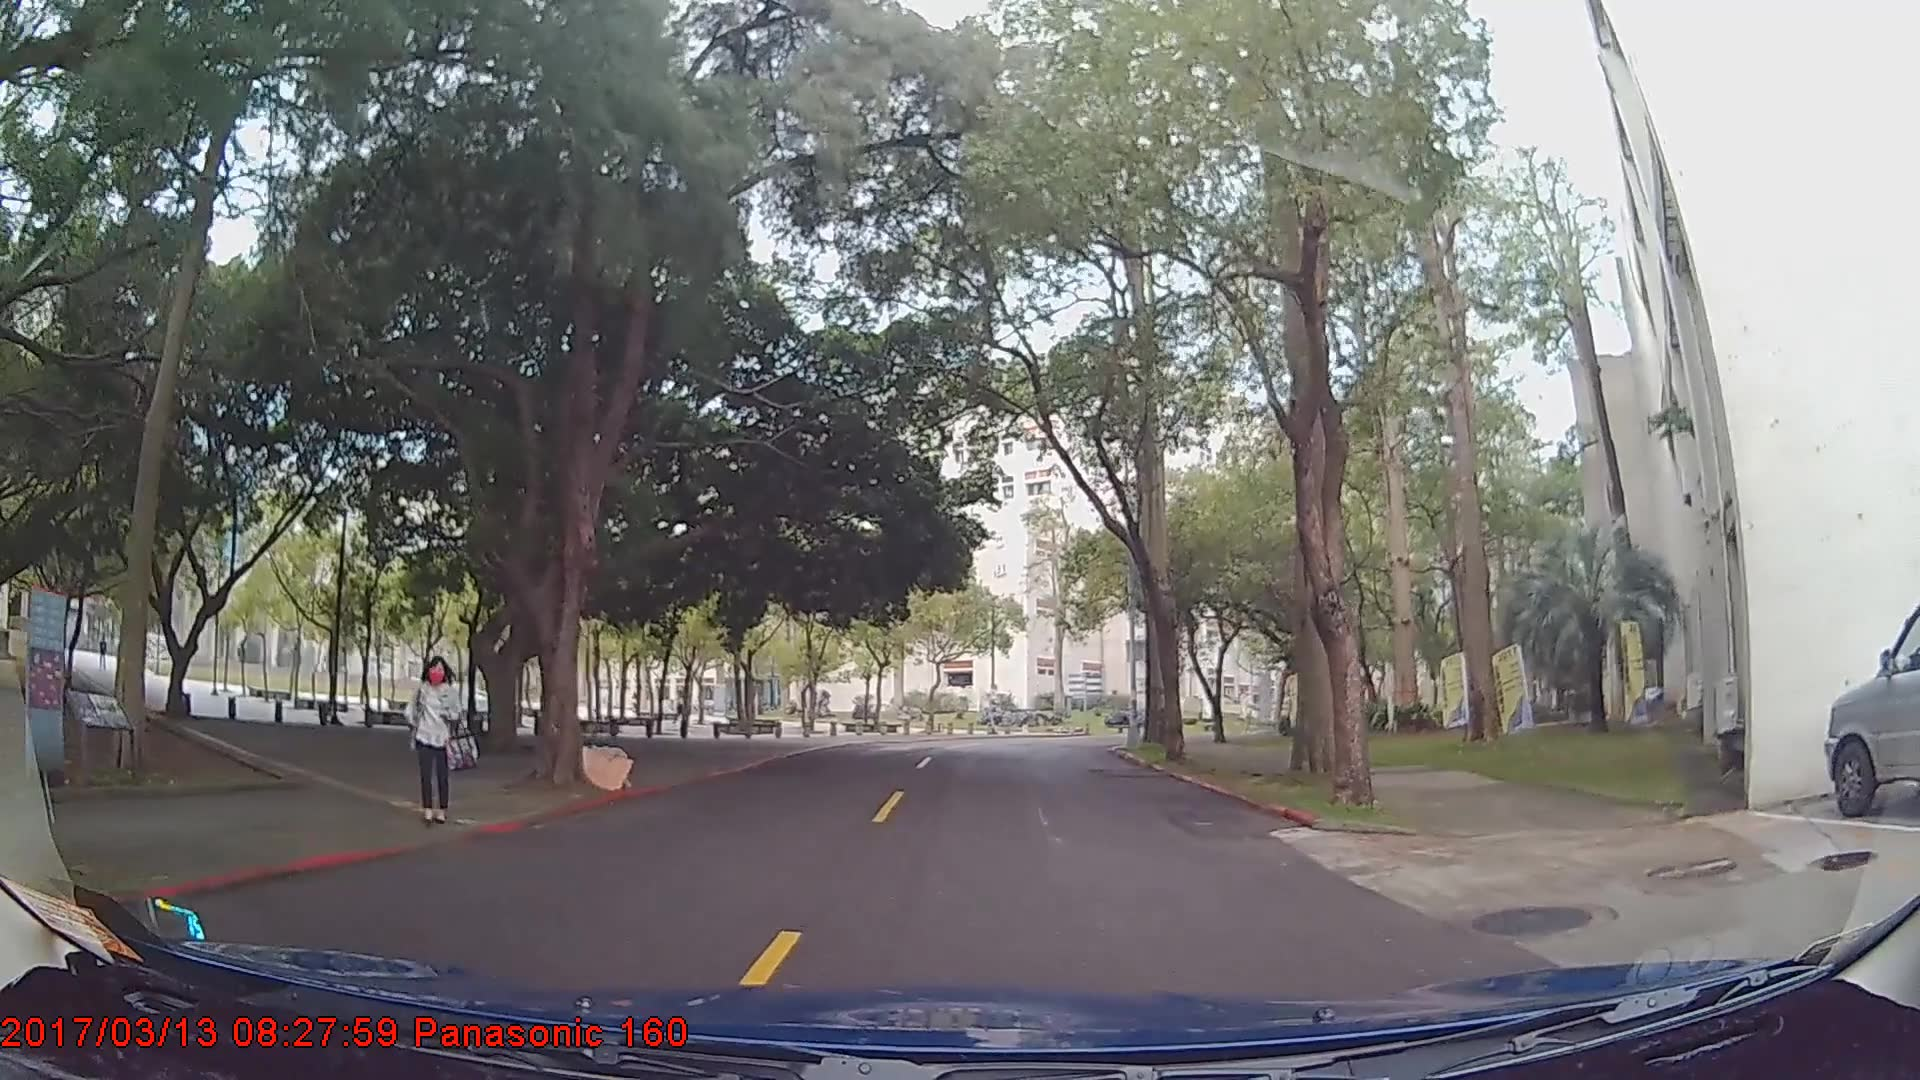pedestrian: (405, 654, 478, 827)
vehicle: (1824, 589, 1920, 821)
